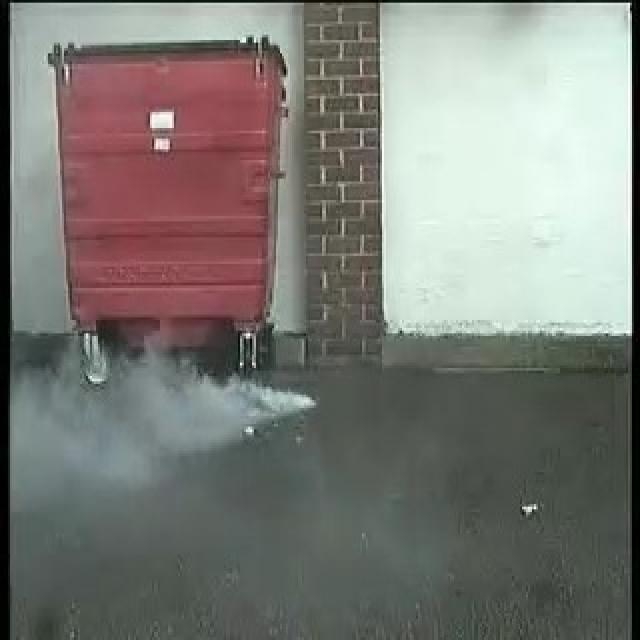smoke: (45, 349, 316, 471)
